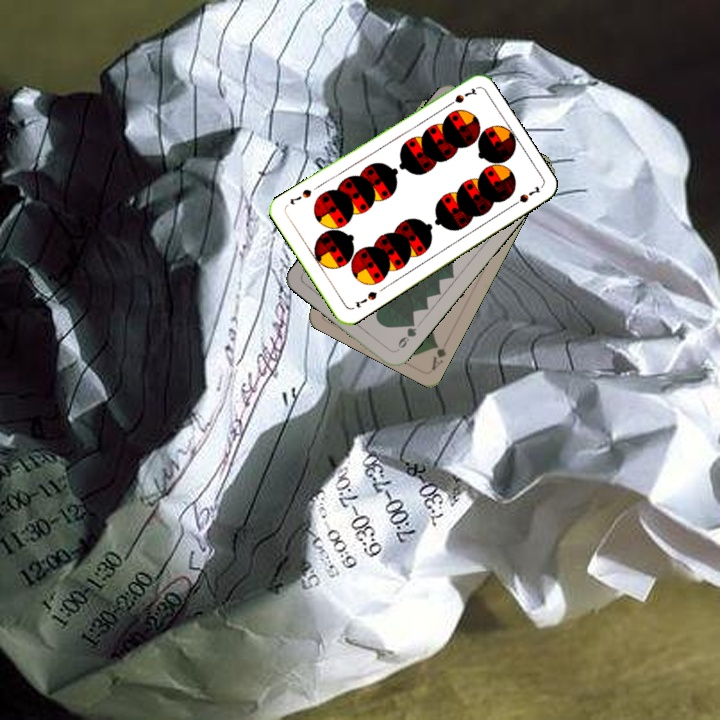G9: (392, 317, 419, 354)
GA: (428, 340, 449, 373)
S7: (442, 84, 479, 110), (350, 287, 379, 310)
